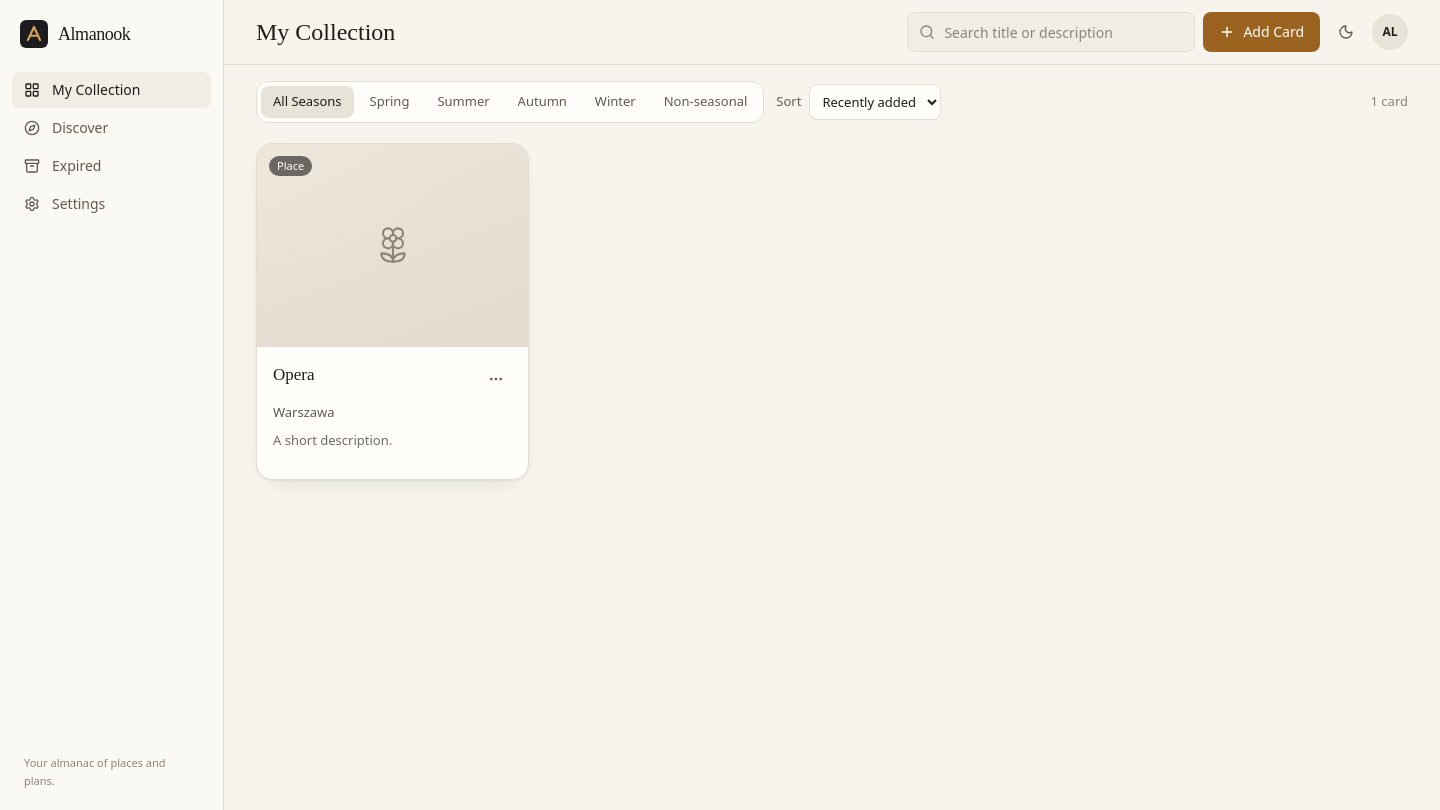
My Collection › searches by title and description through the header search box
Expected: the element "Opera" is shown, [256,142,529,480]
Type "garden" into the search field named "Search cards".
click(1051, 32); type("garden")  # box [907,12,1195,52]
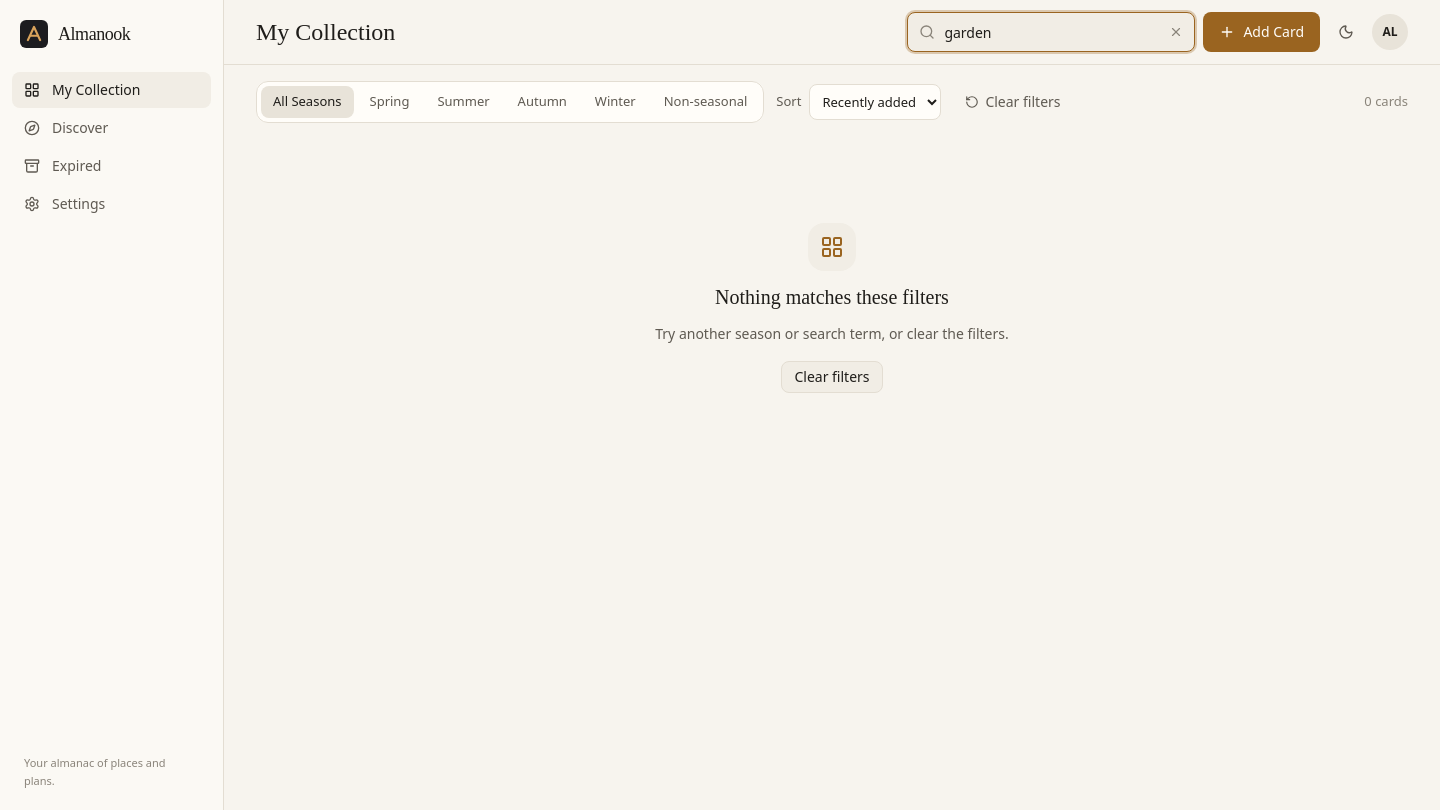
Now the heading "Nothing matches these filters" is shown, box [715,282,949,310]
